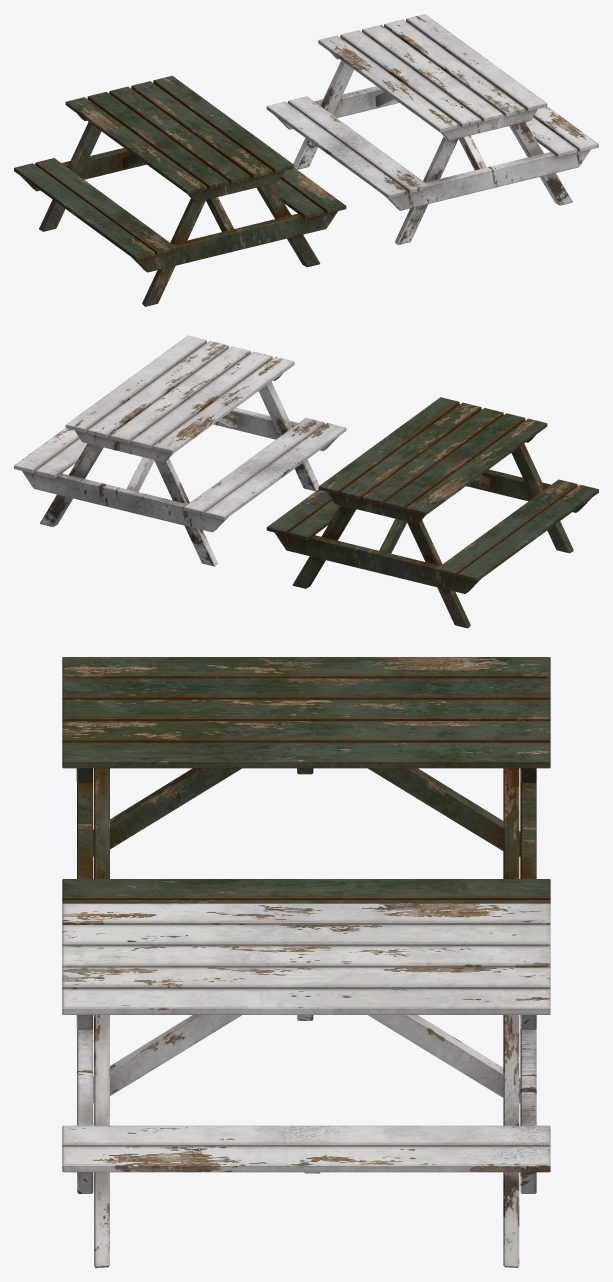
Rendered from picnic-tables-pair.glb.
3 renders of one model, top to bottom at view 1: azimuth 30°, elevation 25°; view 2: azimuth 150°, elevation 25°; view 3: azimuth 270°, elevation 25°, orthographic. The views are drawn at different scales.
Parts seen in each view (by area): view 1: pCube16 (×2), pCube13 (×2), pCube35 (×2), pCube30 (×2), pCube31 (×2), pCube32 (×2), pCube34 (×2), pCube33 (×2), pCube29 (×2), pCube3 (×2), pCube14 (×2), pCube28 (×2) (+1 smaller); view 2: pCube16 (×2), pCube13 (×2), pCube35 (×2), pCube30 (×2), pCube31 (×2), pCube32 (×2), pCube34 (×2), pCube33 (×2), pCube29 (×2), pCube3 (×2), pCube14 (×2), pCube28 (×2) (+1 smaller); view 3: pCube31 (×2), pCube32 (×2), pCube35 (×2), pCube33 (×2), pCube34 (×2), pCube28 (×2), pCube3 (×2), pCube13 (×2), pCube16 (×2), pCube26 (×2), pCube37 (×2).
Boxes of the visible parts, x1,y1,x2,y2 form: pCube16 (×2): (21,86,590,272); pCube13 (×2): (39,60,572,306); pCube35 (×2): (65,35,459,194); pCube30 (×2): (14,101,407,260); pCube31 (×2): (153,14,547,172); pCube32 (×2): (131,19,524,178); pCube34 (×2): (87,30,481,188); pCube33 (×2): (109,25,502,183); pCube29 (×2): (35,96,428,254); pCube3 (×2): (280,106,598,213); pCube14 (×2): (77,24,537,202); pCube28 (×2): (273,117,577,218); pCube16 (×2): (22,407,591,593); pCube13 (×2): (40,382,573,628); pCube35 (×2): (153,357,547,515); pCube30 (×2): (205,423,598,581); pCube31 (×2): (65,335,459,494); pCube32 (×2): (88,341,481,499); pCube34 (×2): (131,351,525,510); pCube33 (×2): (110,346,503,504); pCube29 (×2): (184,418,577,576); pCube3 (×2): (14,428,332,535); pCube14 (×2): (75,373,535,523); pCube28 (×2): (35,438,339,540); pCube31 (×2): (62,742,550,1014); pCube32 (×2): (62,721,550,989); pCube35 (×2): (62,657,550,925); pCube33 (×2): (62,699,550,967); pCube34 (×2): (62,678,550,946); pCube28 (×2): (62,879,550,1146); pCube3 (×2): (62,900,550,1172); pCube13 (×2): (94,768,519,1267); pCube16 (×2): (77,768,536,1193); pCube26 (×2): (368,768,520,1103); pCube37 (×2): (93,768,241,1103).
Bounding box in the file's own units: 132 × 30.84 × 60.
Materials: 2 (2 with a texture image).
